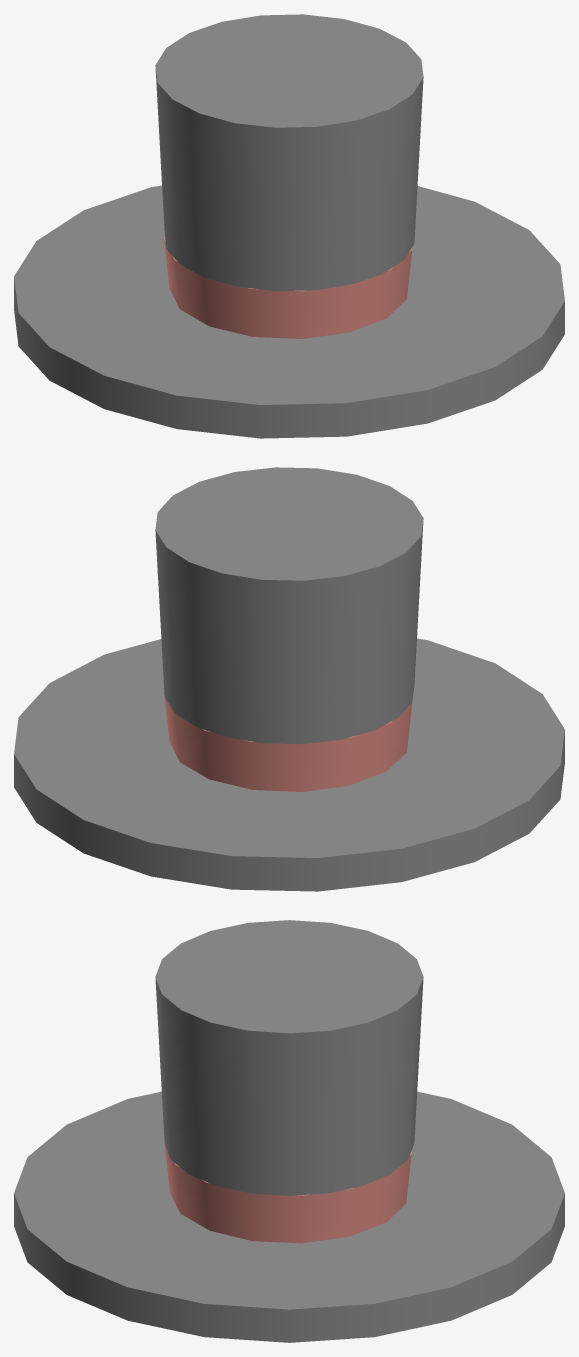
File: accessory_hat.glb
The picture shows the model from 3 angles, top to bottom: view 1: azimuth 30°, elevation 25°; view 2: azimuth 150°, elevation 25°; view 3: azimuth 270°, elevation 25°; orthographic projection.
Visible parts, largest first — view 1: Object3D; view 2: Object3D; view 3: Object3D.
Boxes of the visible parts, box(x1,y1,x2,y2) form: Object3D: box(14, 14, 564, 438); Object3D: box(14, 467, 564, 891); Object3D: box(14, 920, 564, 1342).
Size of the model in its own units: 2.4 by 1.2 by 2.4.
